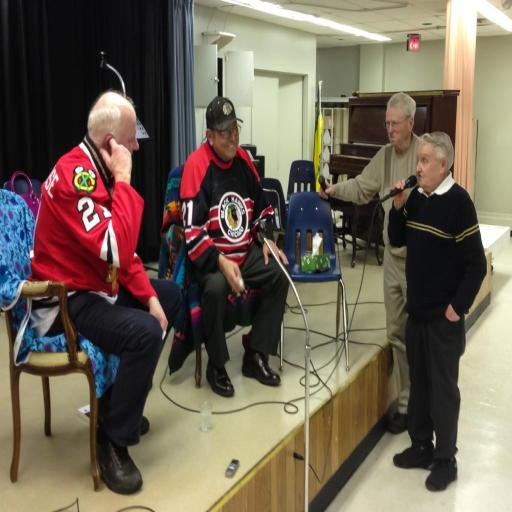Person: (31, 78, 209, 438), (294, 110, 454, 414), (165, 100, 315, 410), (377, 144, 489, 449)
boots: (98, 368, 146, 424), (421, 376, 464, 419), (240, 304, 282, 346), (207, 313, 242, 362), (390, 378, 438, 407)
no_gloves: (298, 188, 359, 236), (213, 243, 257, 304), (421, 273, 473, 322), (379, 187, 425, 242), (136, 259, 178, 319), (100, 169, 148, 212), (250, 233, 300, 273)
no_goggle: (95, 156, 153, 196), (374, 142, 414, 180), (204, 152, 258, 180), (402, 181, 444, 206)
no_helmet: (68, 138, 155, 200), (370, 122, 432, 195), (400, 162, 469, 219), (198, 142, 262, 180)
none: (36, 173, 142, 282), (400, 201, 486, 305), (183, 178, 267, 244), (362, 178, 418, 271)
